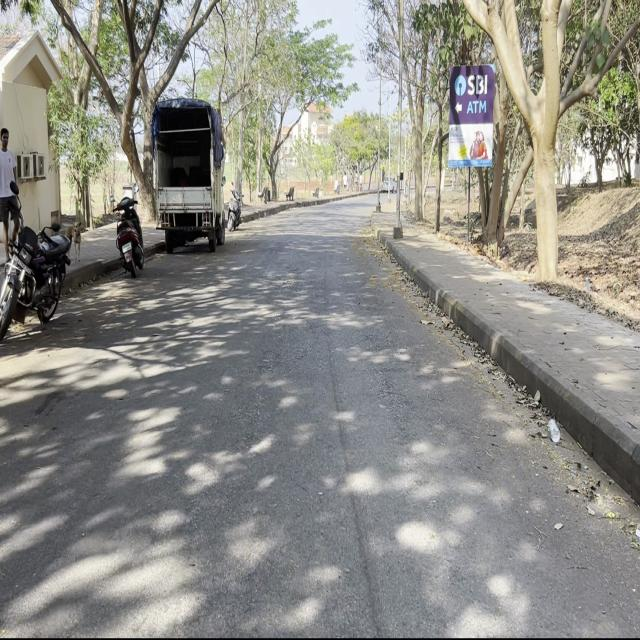Object: (145, 97, 226, 266), (6, 218, 65, 329), (110, 191, 151, 269)
Road: (3, 201, 637, 639)
